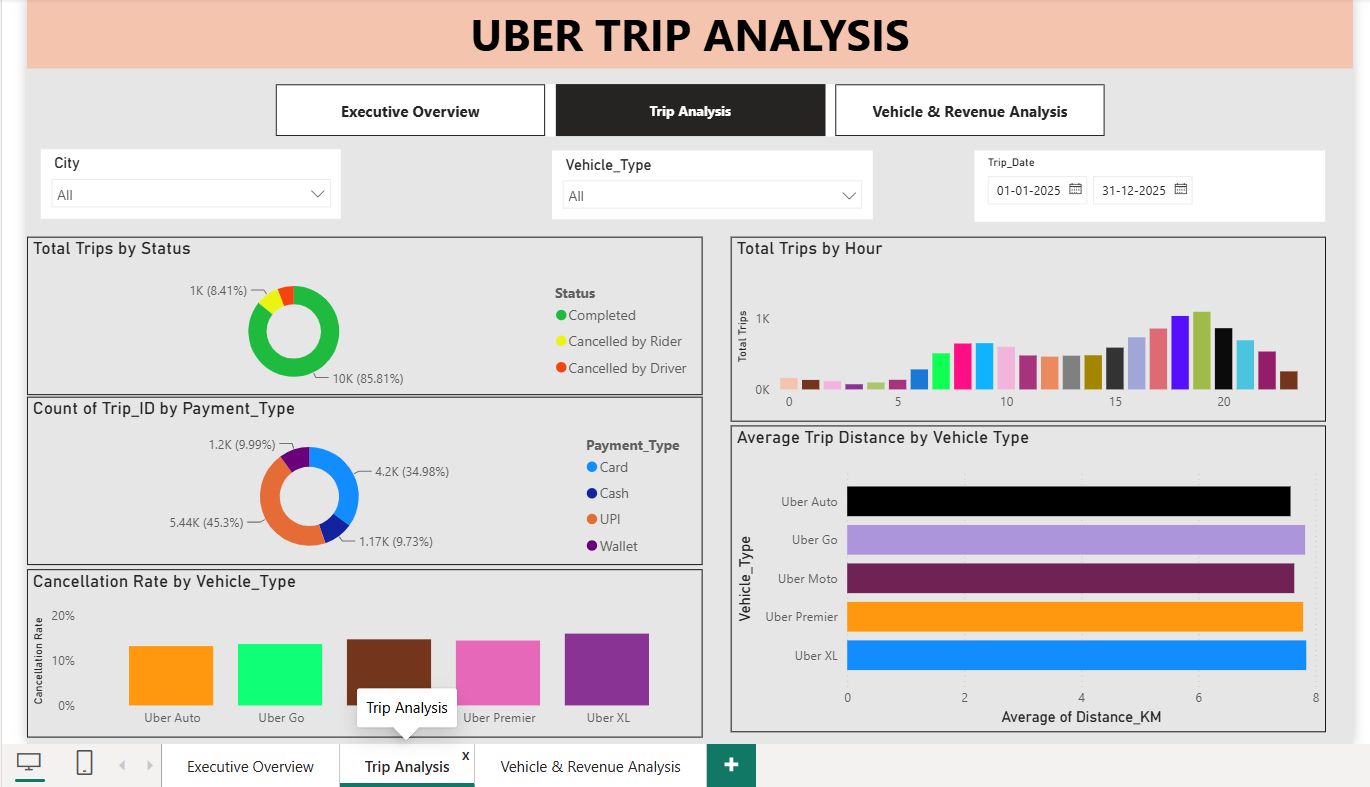

The page's visual inventory and layout, read from the dashboard file:
{"tool":"powerbi","page":{"name":"Trip Analysis","canvas":[1280,720],"ordinal":1},"visuals":[{"type":"donutChart","fields":{"Category":["Raw_Data.Status"],"Y":["Raw_Data.Total Trips"]},"box":[0,229.9,651.8,152.9],"z":0},{"type":"clusteredColumnChart","fields":{"Y":["Raw_Data.Total Trips"],"Category":["Raw_Data.Hour"]},"box":[678.7,229.9,574.7,178.5],"z":1000},{"type":"donutChart","fields":{"Category":["Raw_Data.Payment_Type"],"Y":["CountNonNull(Raw_Data.Trip_ID)"]},"box":[0,385.2,651.8,162.6],"z":2000},{"type":"clusteredBarChart","title":"Average Trip Distance by Vehicle Type","fields":{"Category":["Raw_Data.Vehicle_Type"],"Y":["Avg(Raw_Data.Distance_KM)"]},"box":[678.7,412.1,574.7,295.9],"z":3000},{"type":"textbox","box":[0,0,1279.8,68.3],"z":4000},{"type":"clusteredColumnChart","fields":{"Category":["Raw_Data.Vehicle_Type"],"Y":["Raw_Data.Cancellation Rate"]},"box":[0,551.1,651.7,162.6],"z":5000},{"type":"slicer","fields":{"Values":["Raw_Data.City"]},"box":[13.7,146.5,289.8,67.3],"z":6000},{"type":"slicer","fields":{"Values":["Raw_Data.Vehicle_Type"]},"box":[506.4,147.7,309.4,66],"z":7000},{"type":"slicer","fields":{"Values":["Raw_Data.Trip_Date"]},"box":[914.8,147.7,338.7,68.5],"z":8000},{"type":"pageNavigator","box":[239.6,83.2,800,50],"z":9000}]}

Visuals, with their boxes on the page's 1280x720 design canvas (x1, y1, x2, y2). These are canvas units, not pixel positions in the 1370x787 screenshot, which may show the page scaled, cropped or inside an application window:
donutChart - Raw_Data.Status x Raw_Data.Total Trips: (0,230,652,383)
clusteredColumnChart - Raw_Data.Total Trips x Raw_Data.Hour: (679,230,1253,408)
donutChart - Raw_Data.Payment_Type x CountNonNull(Raw_Data.Trip_ID): (0,385,652,548)
"Average Trip Distance by Vehicle Type" clusteredBarChart: (679,412,1253,708)
textbox: (0,0,1280,68)
clusteredColumnChart - Raw_Data.Vehicle_Type x Raw_Data.Cancellation Rate: (0,551,652,714)
slicer - Raw_Data.City: (14,146,304,214)
slicer - Raw_Data.Vehicle_Type: (506,148,816,214)
slicer - Raw_Data.Trip_Date: (915,148,1254,216)
pageNavigator: (240,83,1040,133)
